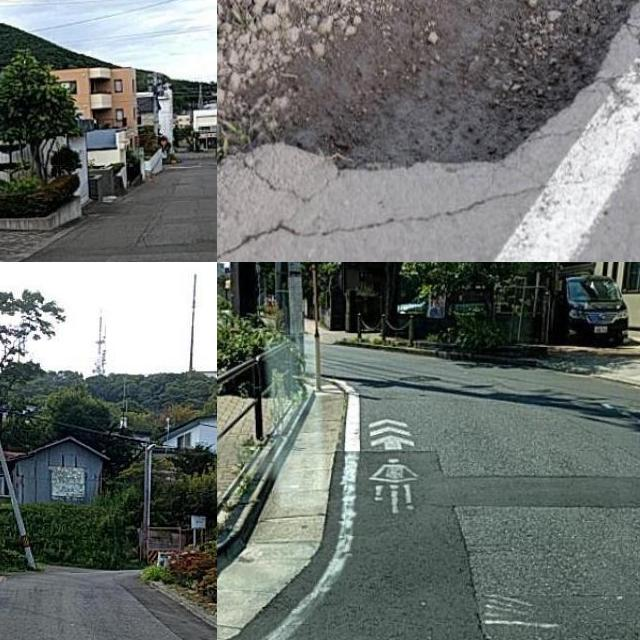Pinggir: (229, 0, 640, 187)
Sambungan: (227, 449, 488, 640), (441, 474, 640, 512)
